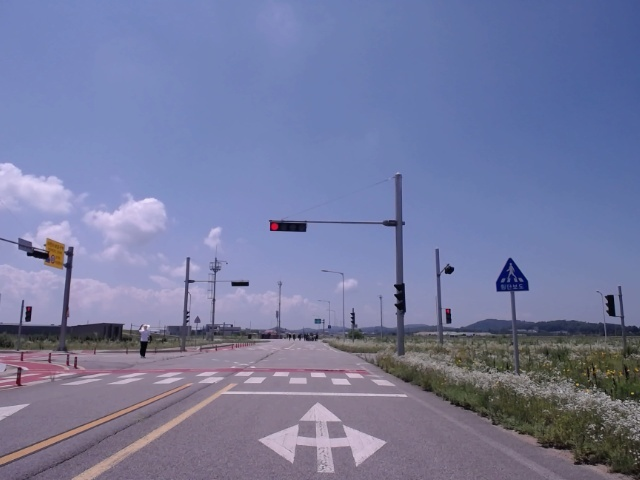red_4: (270, 222, 307, 232)
